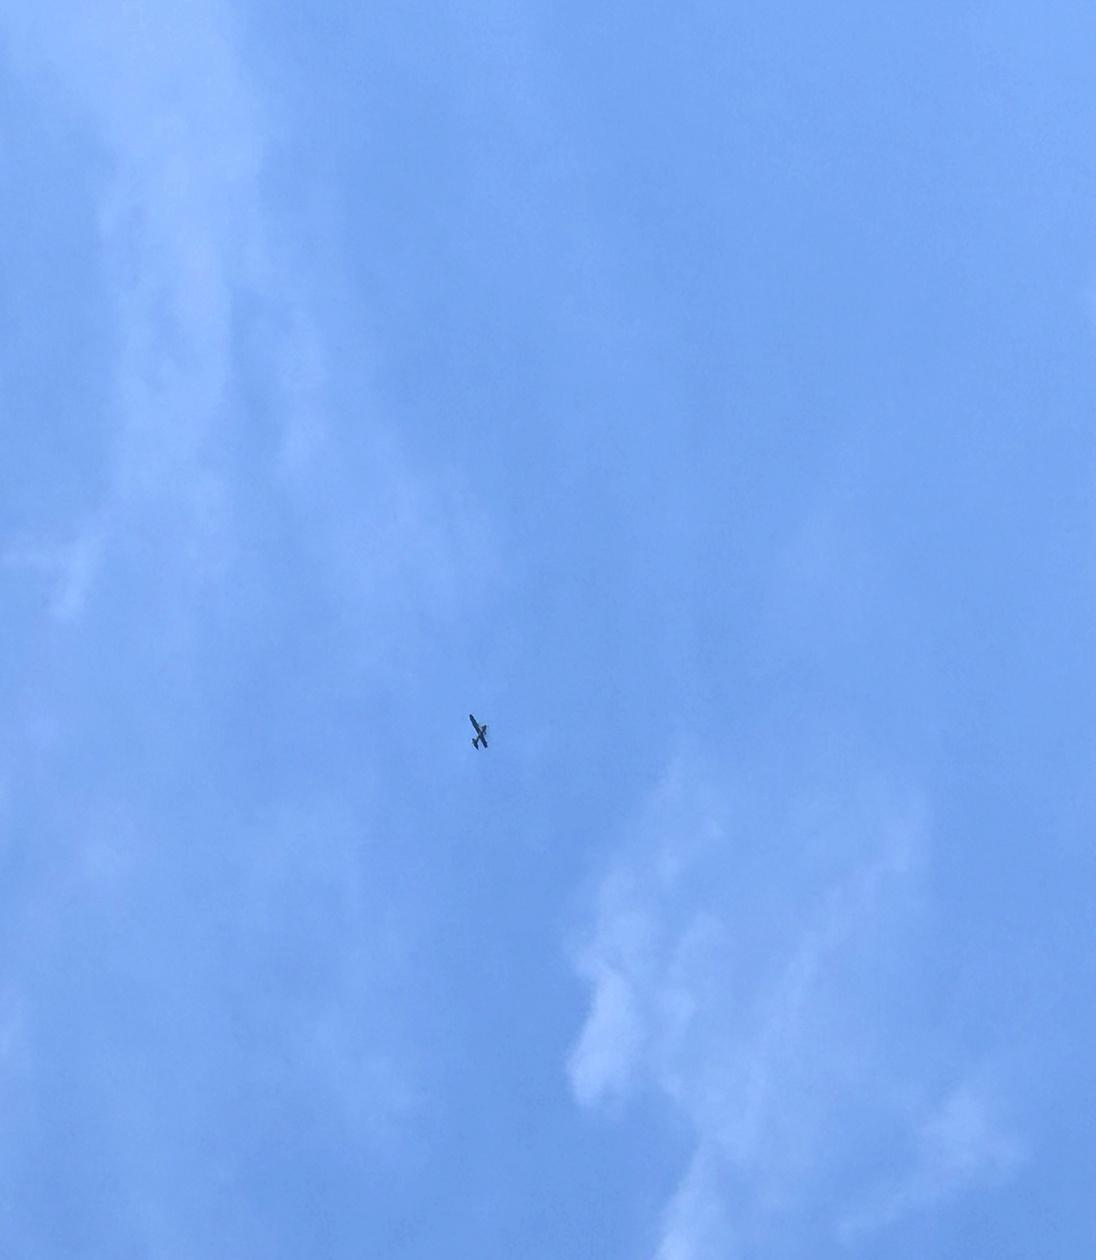Plane: (448, 695, 510, 770)
